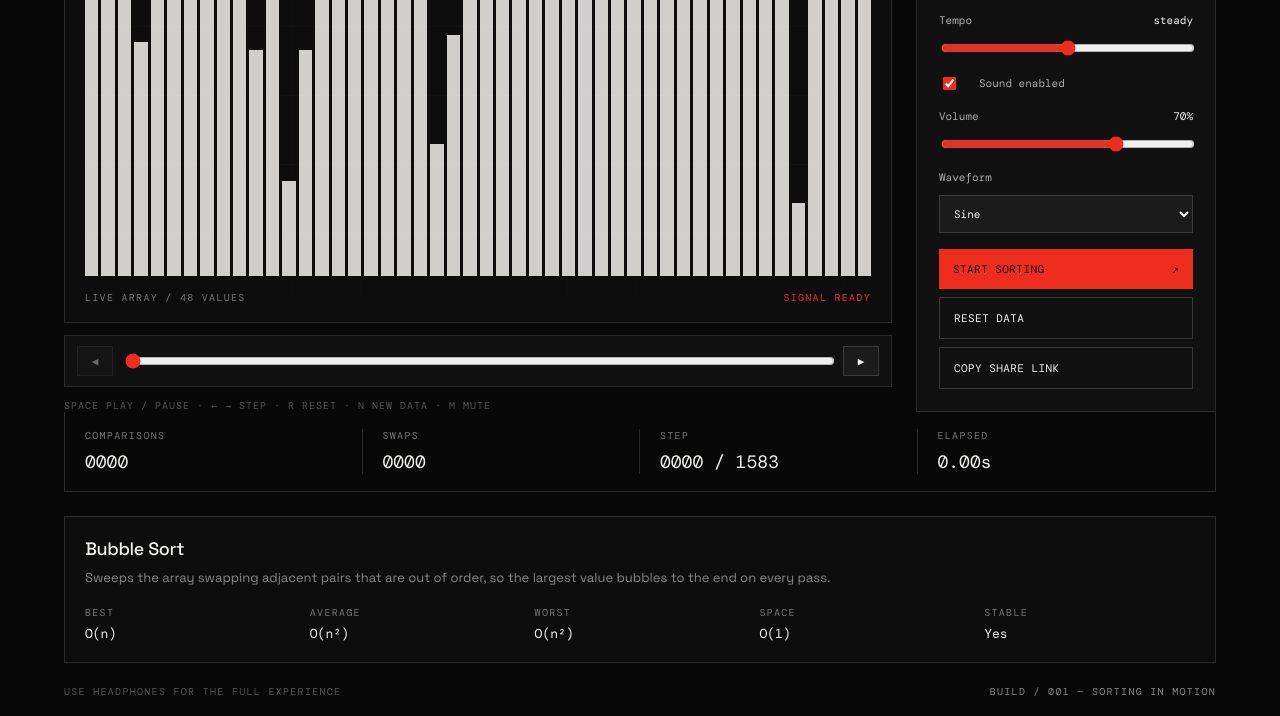
Scenario: Sort With Sound controls › steps forward and back through the timeline
(page scrolled)
Expected: the button named "step back" is disabled, x1=77 y1=346 x2=113 y2=376
Click the button named "step forward". click: [861, 361]
box: x1=843 y1=346 x2=879 y2=376
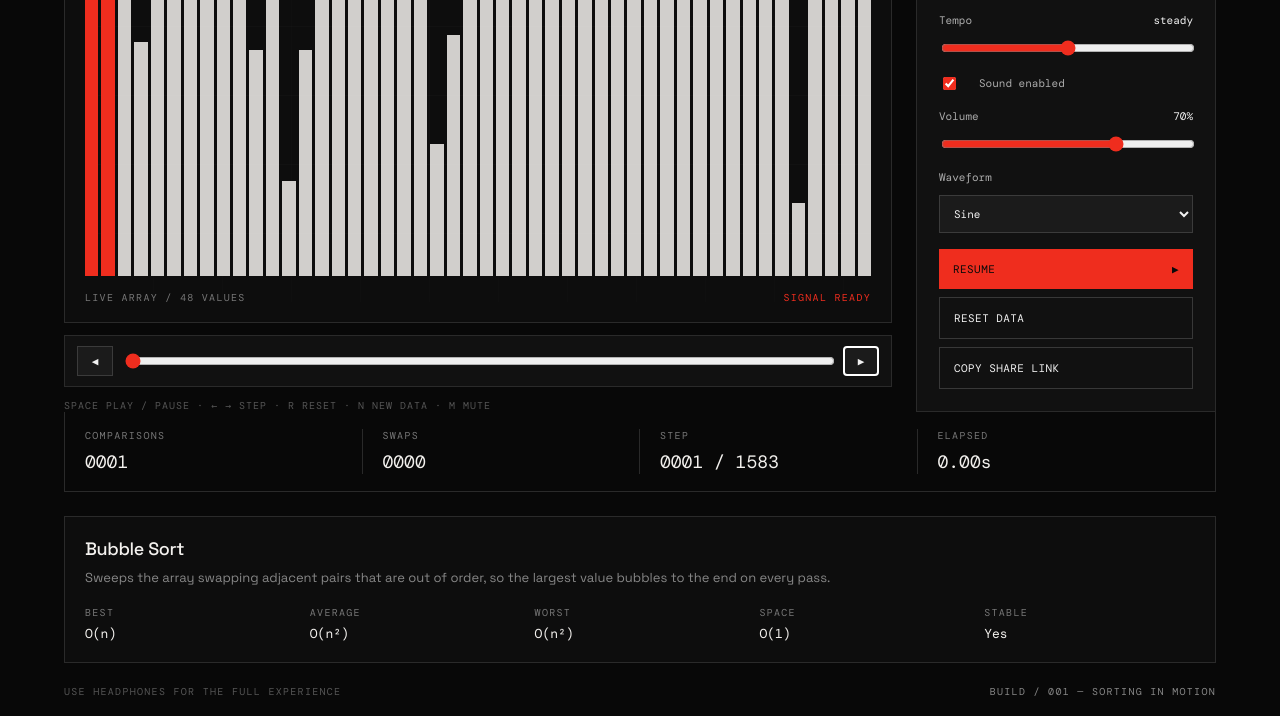
Expected: the slider named "timeline" holds "1", x1=125 y1=353 x2=835 y2=369
Click the button named "step back". click: [95, 361]
box: x1=77 y1=346 x2=113 y2=376
(page scrolled)
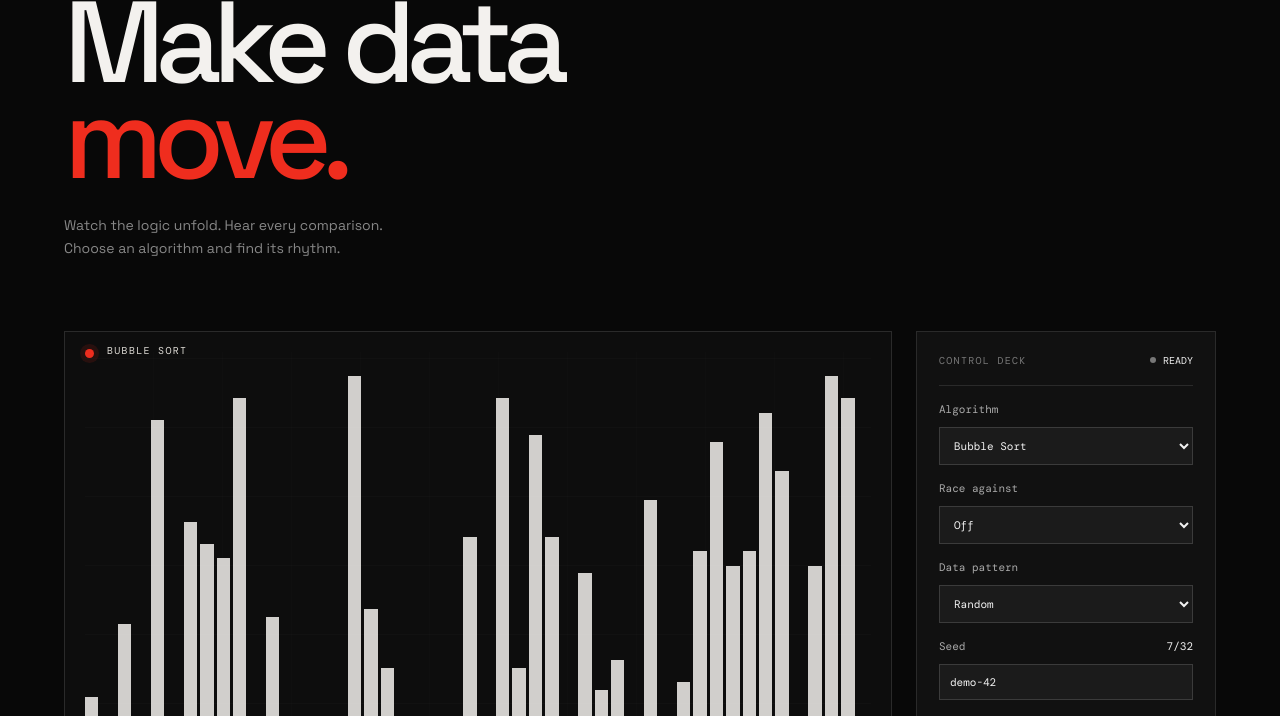
Now the message "ready" is shown, box x1=1150 y1=354 x2=1193 y2=367
